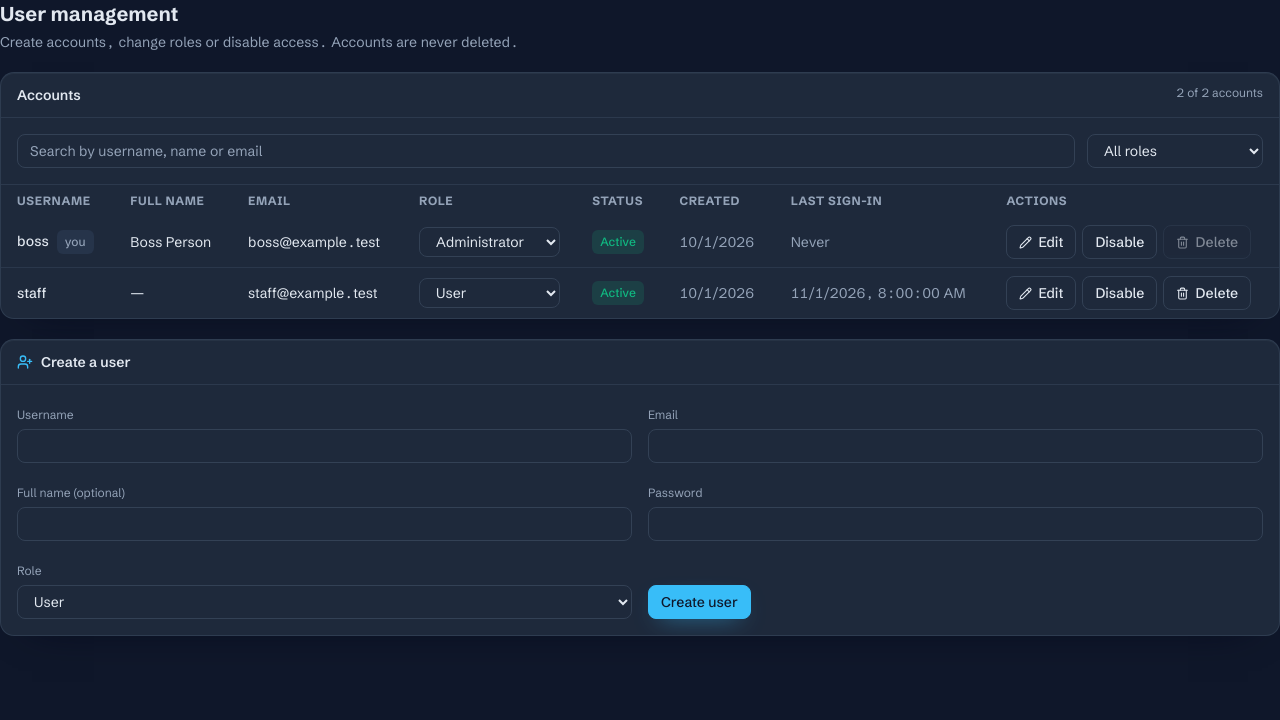
Scenario: Users page (admin): edit › edit dialog saves name and email, closes, toasts and refreshes the list
The width and height of the screenshot is (1280, 720).
Click the button "Edit" in the row of "staff@example.test": click(1041, 293) [1006,276,1076,310]
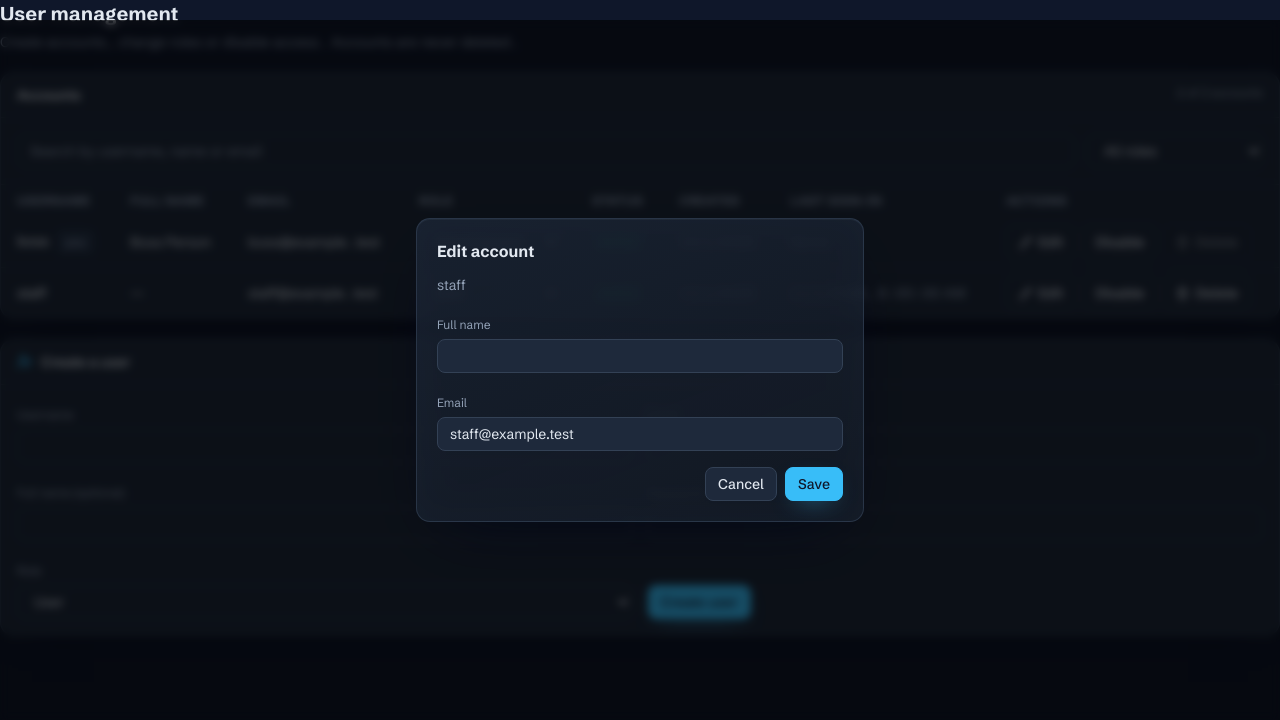
In the field labelled "Full name": (640, 356) [437,339,843,373], type "  Nguyen Van A "
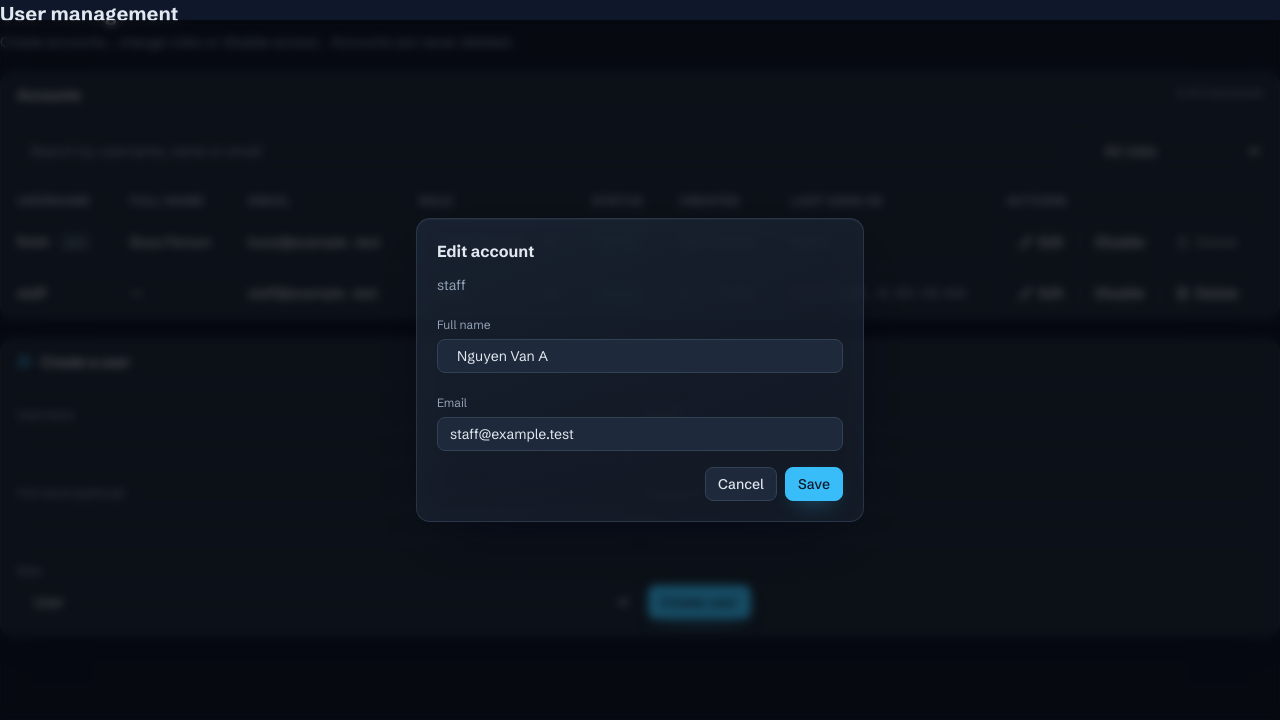
Replace the text in the field labelled "Email" with "NEW@example.test": (640, 434) [437,417,843,451]
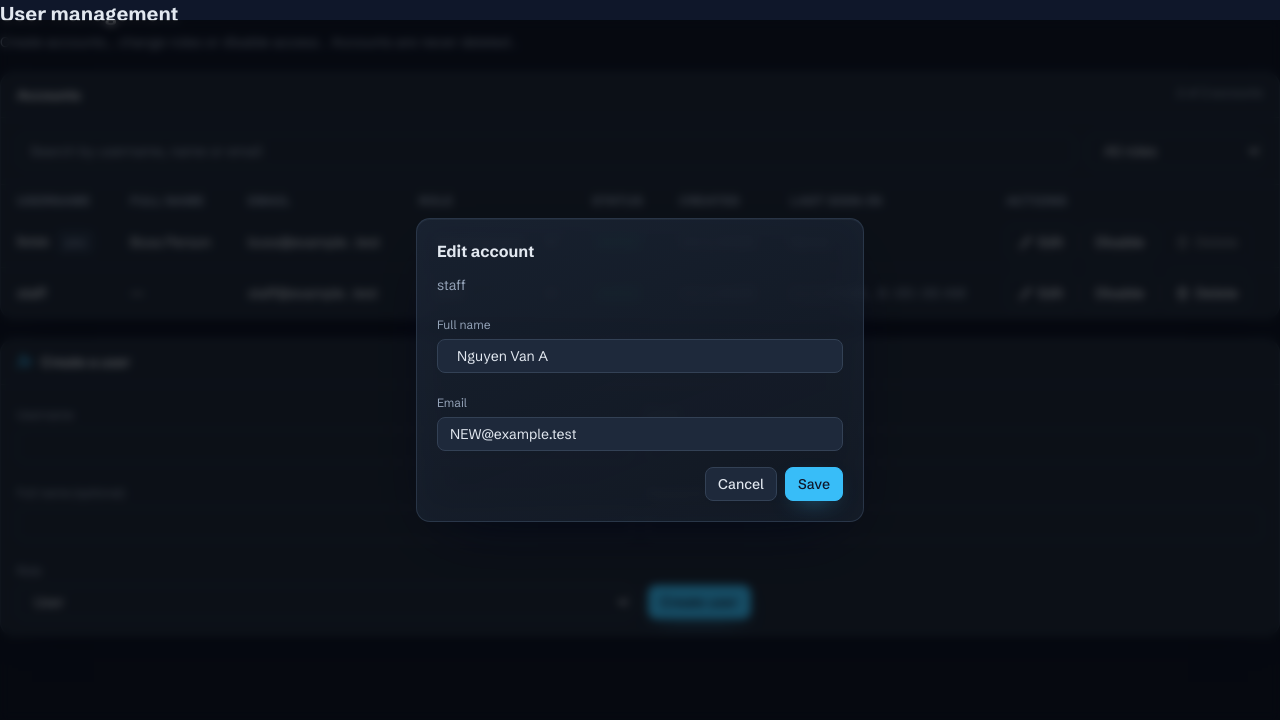
Click the button "Save": click(814, 484) [785,467,843,501]
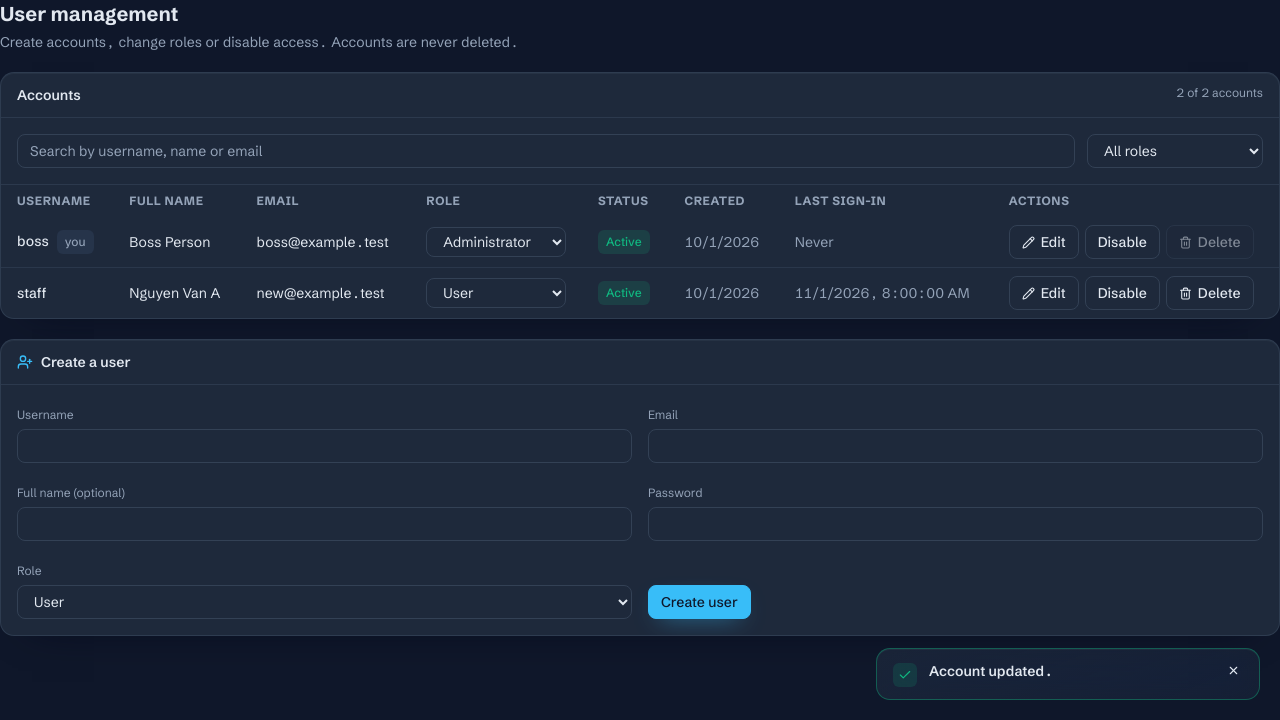
Now the text "Account updated." is shown, box [929,662,1053,680]
Now the dialog is gone
Now the text "Nguyen Van A" is shown, box [113,268,240,318]
